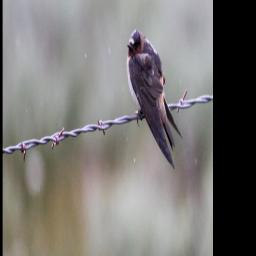Swallow: (125, 27, 184, 171)
